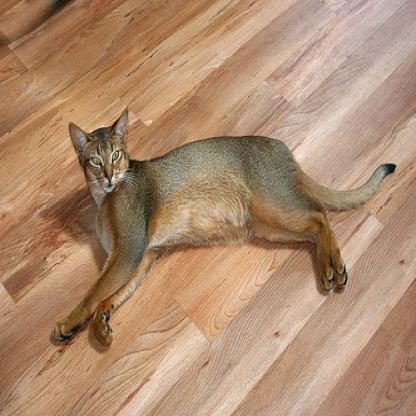cat: (52, 106, 398, 349)
